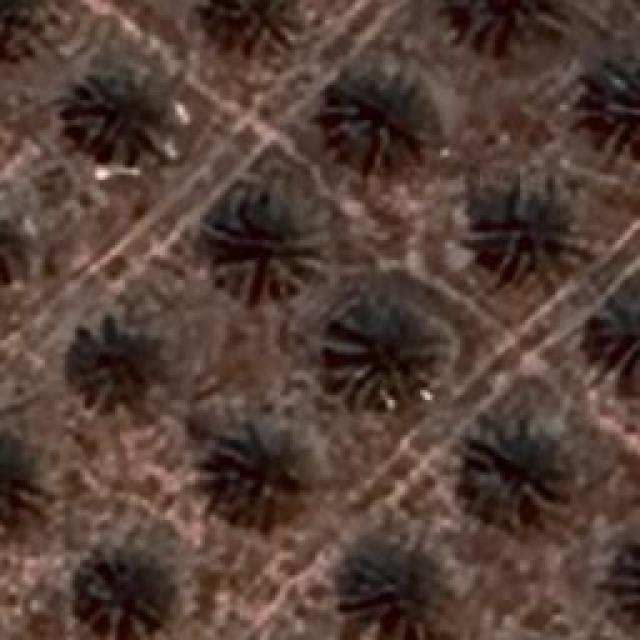PalmTree: (22, 29, 58, 493), (327, 300, 445, 402), (208, 188, 310, 298), (70, 52, 168, 160), (465, 422, 565, 520), (215, 425, 310, 525), (355, 547, 455, 640), (70, 312, 160, 406), (332, 70, 432, 154), (80, 542, 175, 630), (435, 0, 567, 63), (492, 190, 578, 272), (215, 0, 302, 52), (598, 55, 638, 160), (600, 285, 640, 385), (603, 539, 640, 627), (0, 205, 31, 288)
